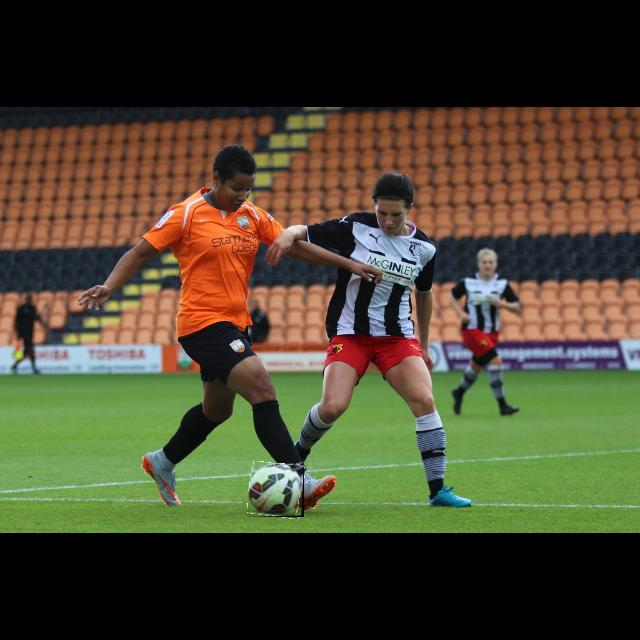Football: (248, 463, 304, 517)
